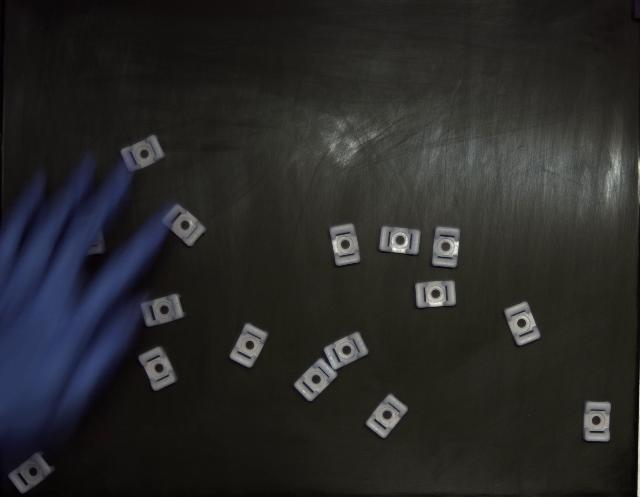first_side: (9, 452, 55, 494), (366, 394, 408, 439), (294, 359, 338, 401), (162, 205, 206, 246), (139, 346, 178, 391), (230, 324, 269, 369), (324, 332, 369, 370), (120, 135, 165, 172), (504, 301, 540, 346), (141, 294, 185, 328), (330, 224, 360, 266), (431, 226, 460, 268), (379, 226, 421, 255), (415, 280, 456, 309), (584, 401, 611, 442)
